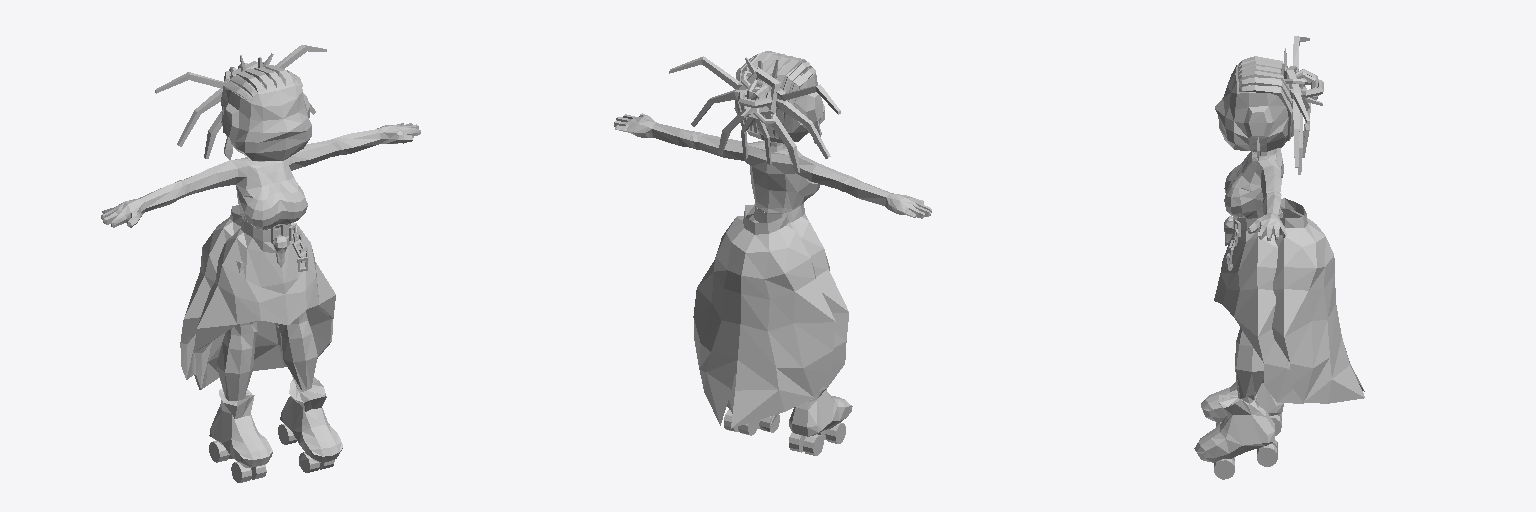
File: WitchFINAL2_000001.obj
3 views of the same model, side by side, from view 1: azimuth 30°, elevation 25°; view 2: azimuth 150°, elevation 25°; view 3: azimuth 270°, elevation 25° (orthographic).
Visible parts, largest first — view 1: Body_Cylinder, Torso(Boobies)_Cylinder.002, LegR_Cube.004, LegL_Cube.003, Head_Cylinder.004, ZBody_Cylinder.001, Hair_Cylinder.006, Tail.001_Torus.001; view 2: ZBody_Cylinder.001, Torso(Boobies)_Cylinder.002, Body_Cylinder, LegR_Cube.004, Hair_Cylinder.006, Tail.001_Torus.001, Tail_Torus, Tail.002_Torus.002, Head_Cylinder.004, LegL_Cube.003; view 3: ZBody_Cylinder.001, Body_Cylinder, LegL_Cube.003, Torso(Boobies)_Cylinder.002, Head_Cylinder.004, Hair_Cylinder.006, LegR_Cube.004, Tail_Torus, Tail.002_Torus.002.
Part boxes in pixels (x1,y1,x2,y2): Body_Cylinder: (194, 219, 335, 389); Torso(Boobies)_Cylinder.002: (101, 123, 420, 229); LegR_Cube.004: (209, 261, 272, 482); LegL_Cube.003: (278, 311, 342, 472); Head_Cylinder.004: (221, 67, 311, 160); ZBody_Cylinder.001: (180, 205, 241, 379); Hair_Cylinder.006: (221, 65, 302, 109); Tail.001_Torus.001: (155, 72, 233, 158); ZBody_Cylinder.001: (693, 204, 835, 428); Torso(Boobies)_Cylinder.002: (614, 113, 931, 218); Body_Cylinder: (728, 203, 848, 413); LegR_Cube.004: (789, 389, 852, 455); Hair_Cylinder.006: (735, 51, 815, 138); Tail.001_Torus.001: (754, 84, 840, 173); Tail_Torus: (738, 57, 780, 123); Tail.002_Torus.002: (669, 56, 754, 158); Head_Cylinder.004: (734, 59, 824, 143); LegL_Cube.003: (724, 404, 779, 435); ZBody_Cylinder.001: (1272, 198, 1364, 403); Body_Cylinder: (1214, 212, 1303, 403); LegL_Cube.003: (1194, 267, 1277, 479); Torso(Boobies)_Cylinder.002: (1224, 147, 1286, 240); Head_Cylinder.004: (1215, 64, 1290, 151); Hair_Cylinder.006: (1238, 56, 1293, 140); LegR_Cube.004: (1201, 380, 1283, 435); Tail_Torus: (1281, 48, 1323, 110); Tail.002_Torus.002: (1290, 89, 1310, 174).
Bounding box in the file's own units: 13.75 × 16.8 × 6.49.